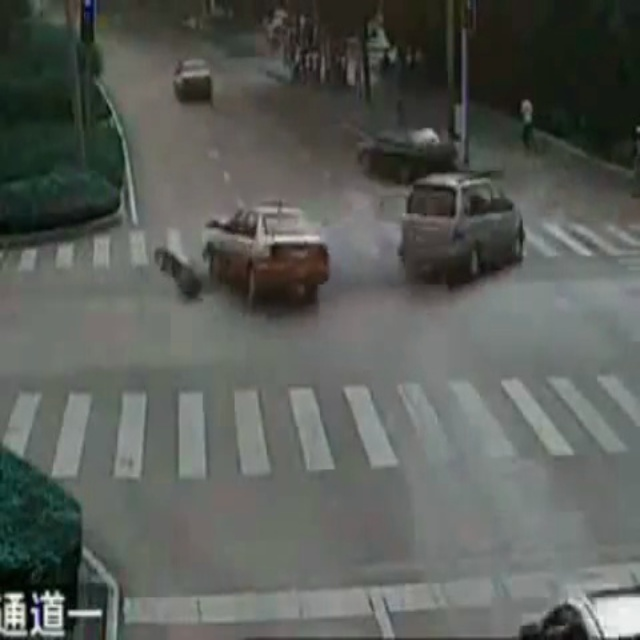acc: (199, 171, 526, 302)
